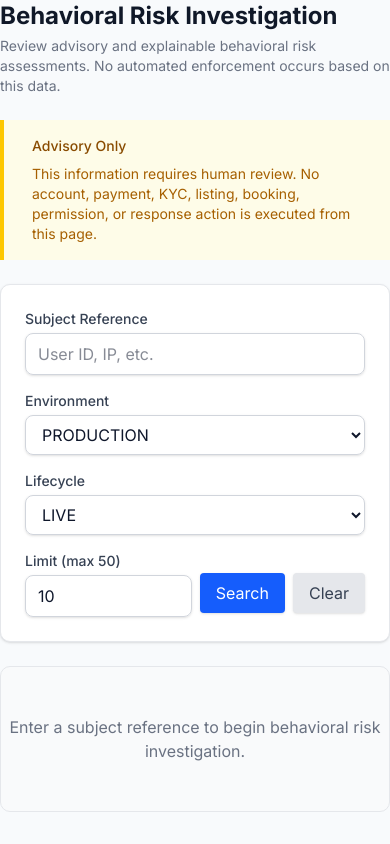
it: Behavioral Risk Investigation Dashboard (Slice 4) › Client Interactions and Validation › 9. Loading state is visible
This screenshot has width=390, height=844.
In the field labelled "Subject Reference": (195, 354) [25, 333, 365, 375], type "user-123"
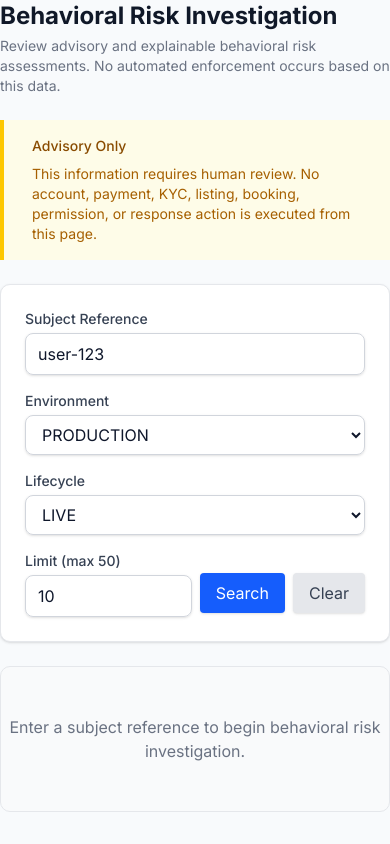
Submit the form "Search", box [0, 284, 389, 642]
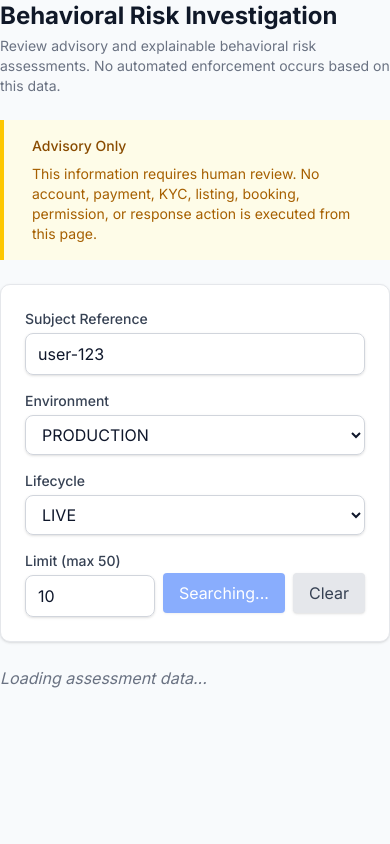
expect the text "Loading assessment data..." is shown: met, box [0, 668, 207, 688]
